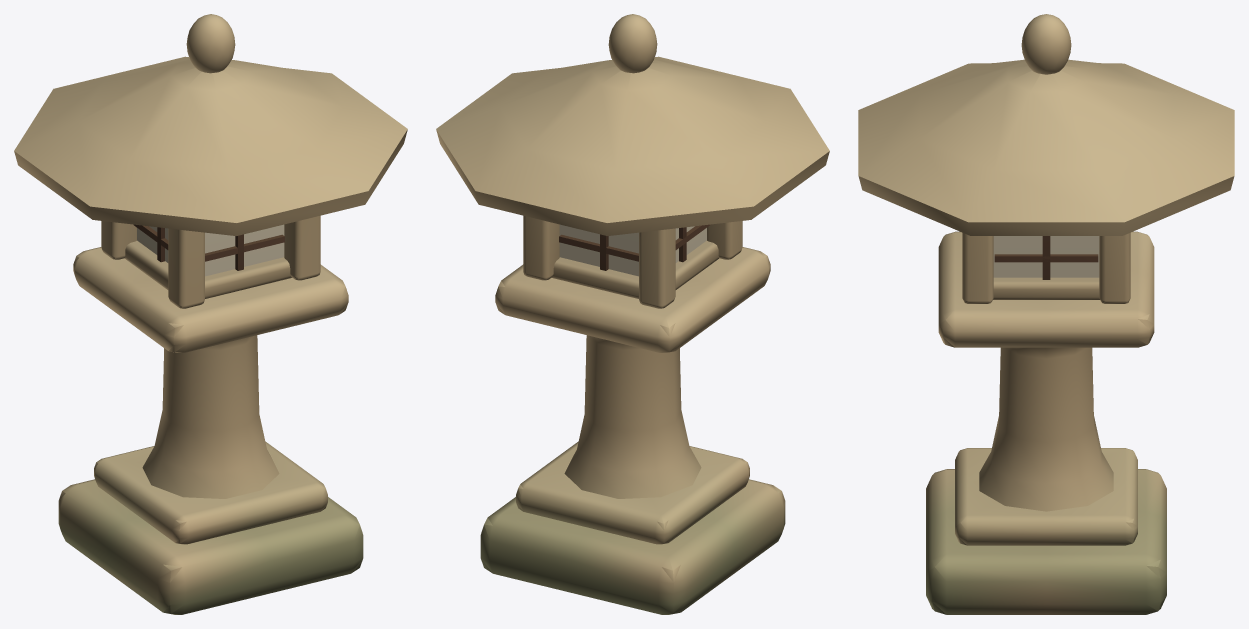
The model's file is lantern_stone.glb.
3 views of the same model, side by side, from view 1: azimuth 30°, elevation 25°; view 2: azimuth 150°, elevation 25°; view 3: azimuth 270°, elevation 25° (orthographic). The views are drawn at different scales.
Parts seen in each view (by area): view 1: body, glow; view 2: body, glow; view 3: body, glow.
Part boxes in pixels (box(x1,y1,x2,y2)): body: box(14, 14, 407, 614); glow: box(137, 224, 284, 276); body: box(436, 14, 829, 614); glow: box(559, 224, 706, 276); body: box(858, 14, 1234, 614); glow: box(993, 236, 1099, 277).
Size of what is drawn, in the model's own units: 0.9054 by 1.48 by 0.9054.
